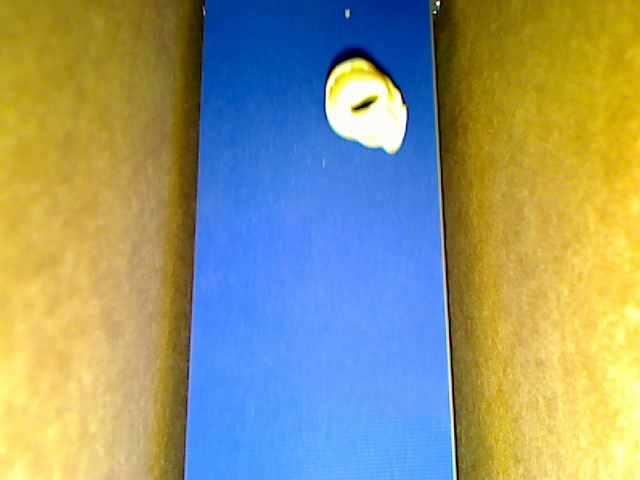tortellini: (323, 58, 408, 155)
